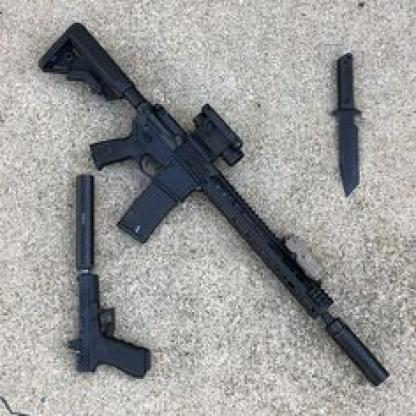Gun: (36, 20, 391, 387)
Knife: (328, 51, 366, 198)
Pistol: (65, 173, 152, 378)
